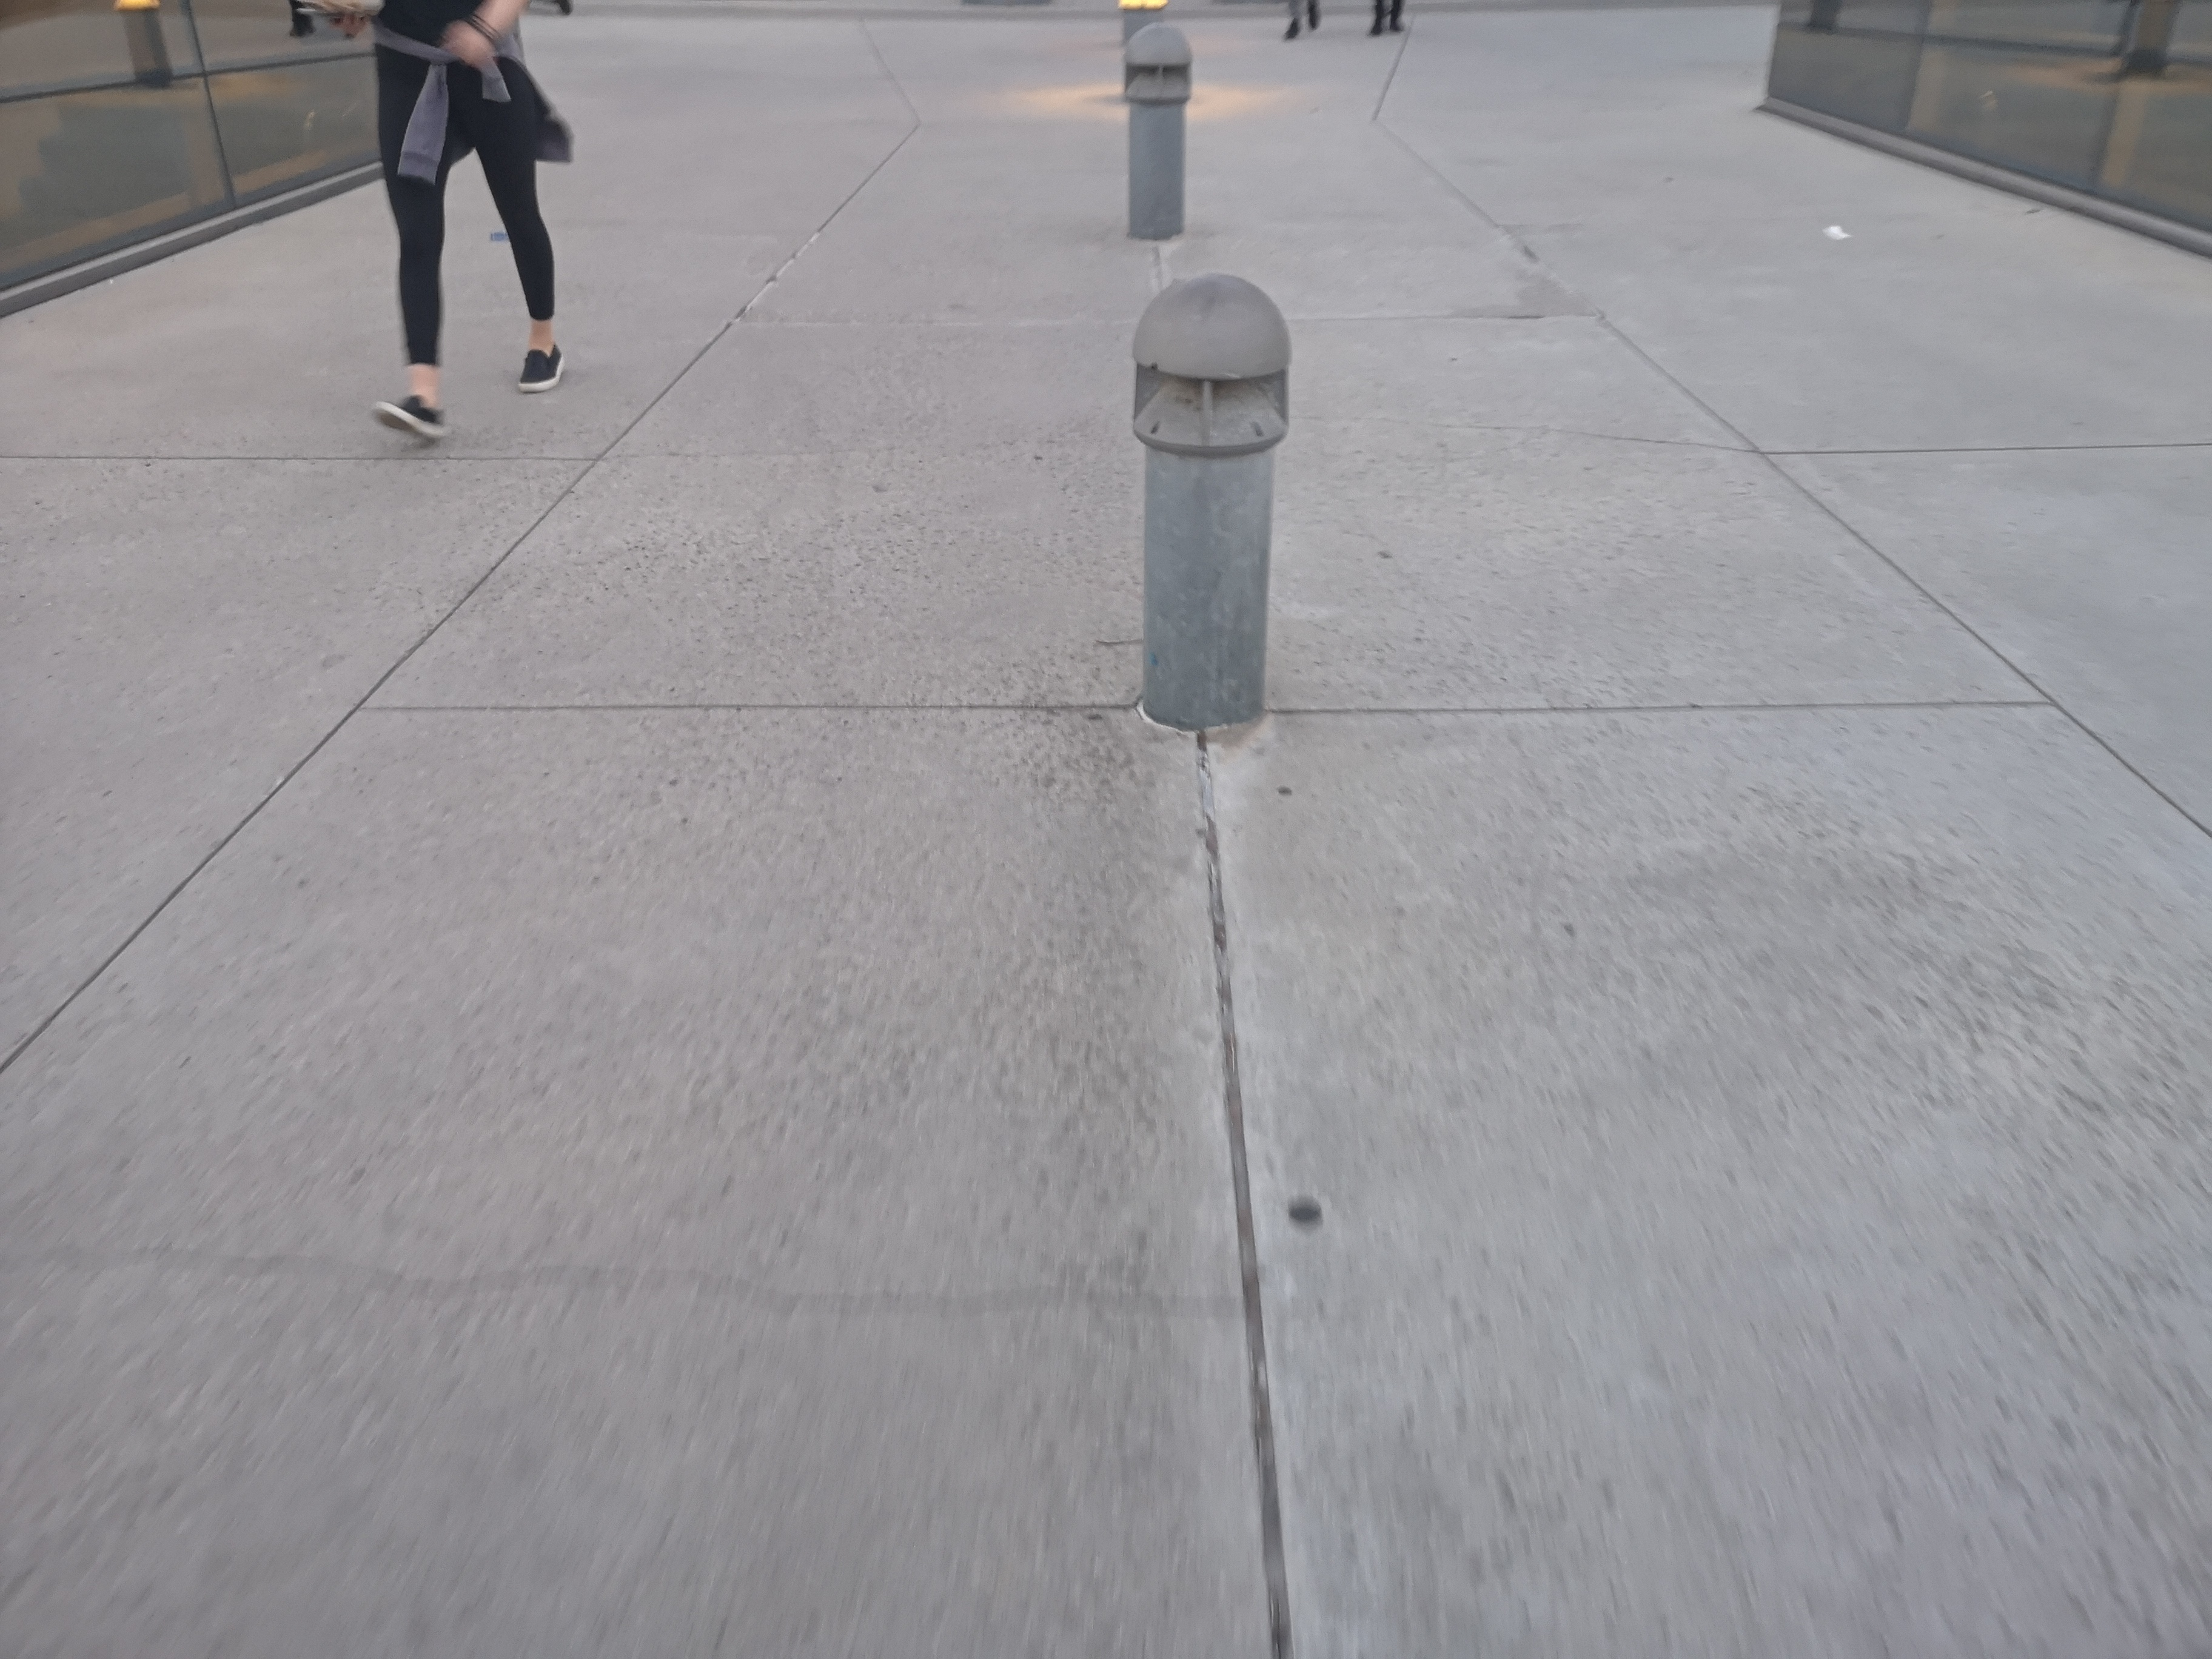Obstacle: (317, 26, 636, 457), (7, 2, 442, 315), (1066, 298, 1338, 777), (1754, 7, 2209, 251), (1087, 40, 1275, 268)
